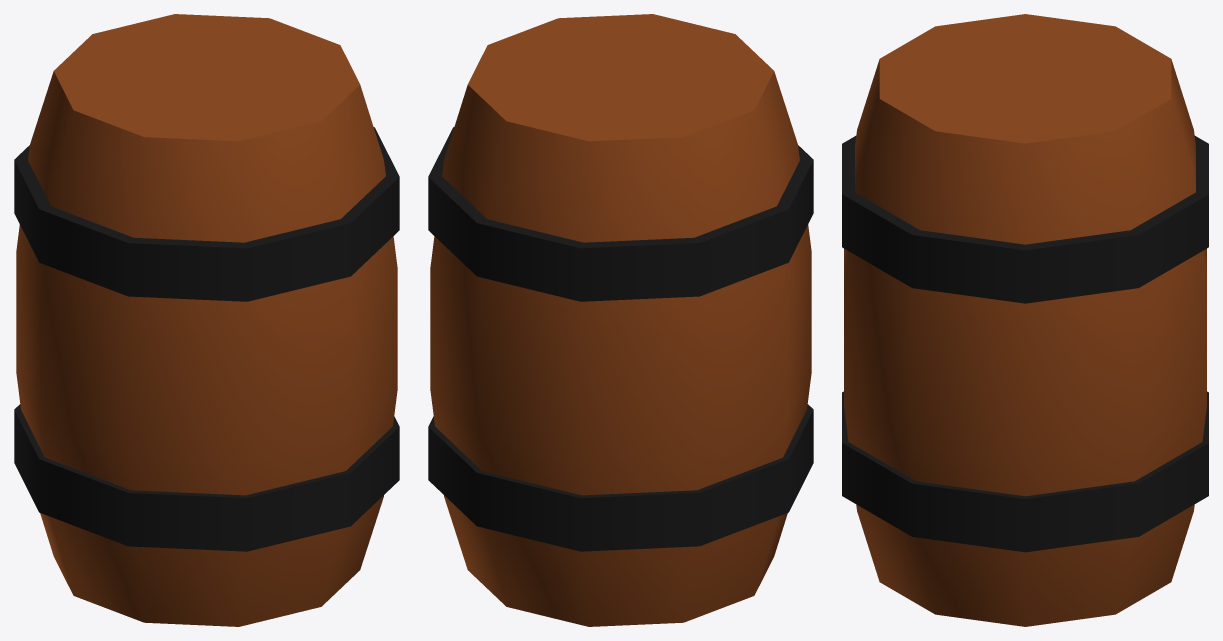
File: barrel 1.FBX
The picture shows the model from 3 angles, left to right: view 1: azimuth 30°, elevation 25°; view 2: azimuth 150°, elevation 25°; view 3: azimuth 270°, elevation 25°; orthographic projection.
Parts seen in each view (by area): view 1: Zylinder001; view 2: Zylinder001; view 3: Zylinder001.
Boxes of the visible parts, left/top/right/bottom form: Zylinder001: left=14, top=14, right=399, bottom=626; Zylinder001: left=428, top=14, right=813, bottom=626; Zylinder001: left=842, top=14, right=1208, bottom=626.
Bounding box in the file's own units: 0.3083 × 0.2932 × 0.4262.
